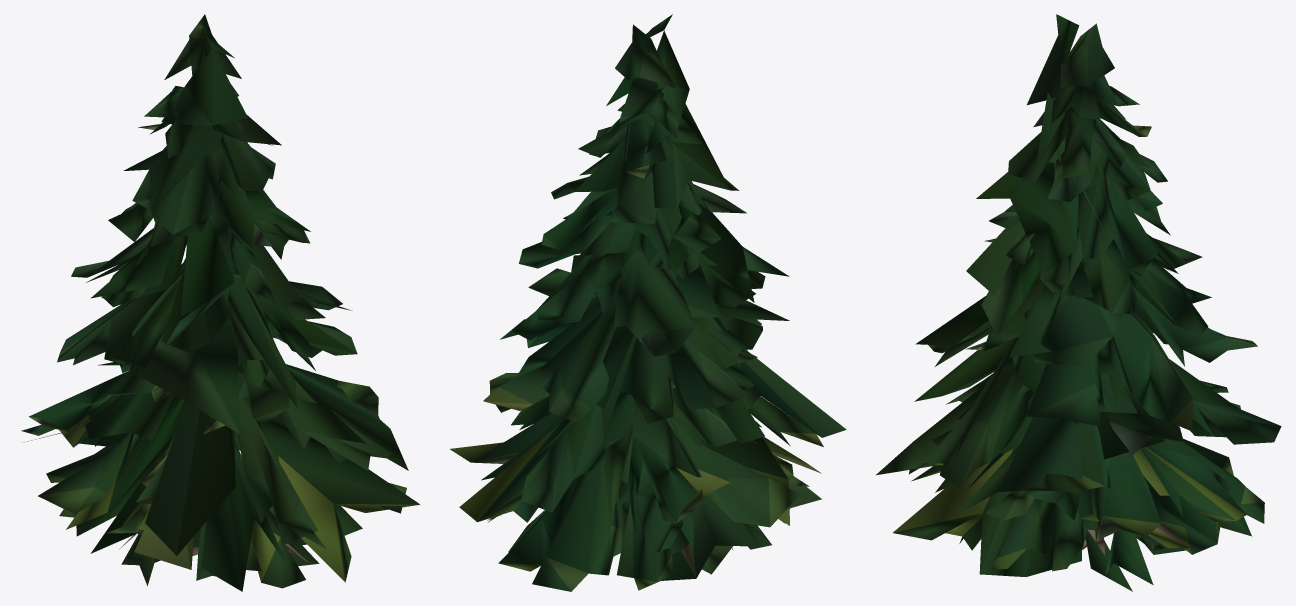
Rendered from trees.glb.
The picture shows the model from 3 angles, left to right: view 1: azimuth 30°, elevation 25°; view 2: azimuth 150°, elevation 25°; view 3: azimuth 270°, elevation 25°; orthographic projection.
Parts seen in each view (by area): view 1: spruce_lo, spruce_mid; view 2: spruce_mid, spruce_lo; view 3: spruce_mid, spruce_lo.
Part boxes in pixels (bbox=[...]): spruce_lo: bbox=[23, 31, 419, 591]; spruce_mid: bbox=[21, 14, 406, 588]; spruce_mid: bbox=[450, 24, 823, 591]; spruce_lo: bbox=[488, 14, 846, 580]; spruce_mid: bbox=[908, 23, 1281, 585]; spruce_lo: bbox=[876, 14, 1226, 591].
Size of the model in its own units: 0.6267 by 1 by 0.7226.
